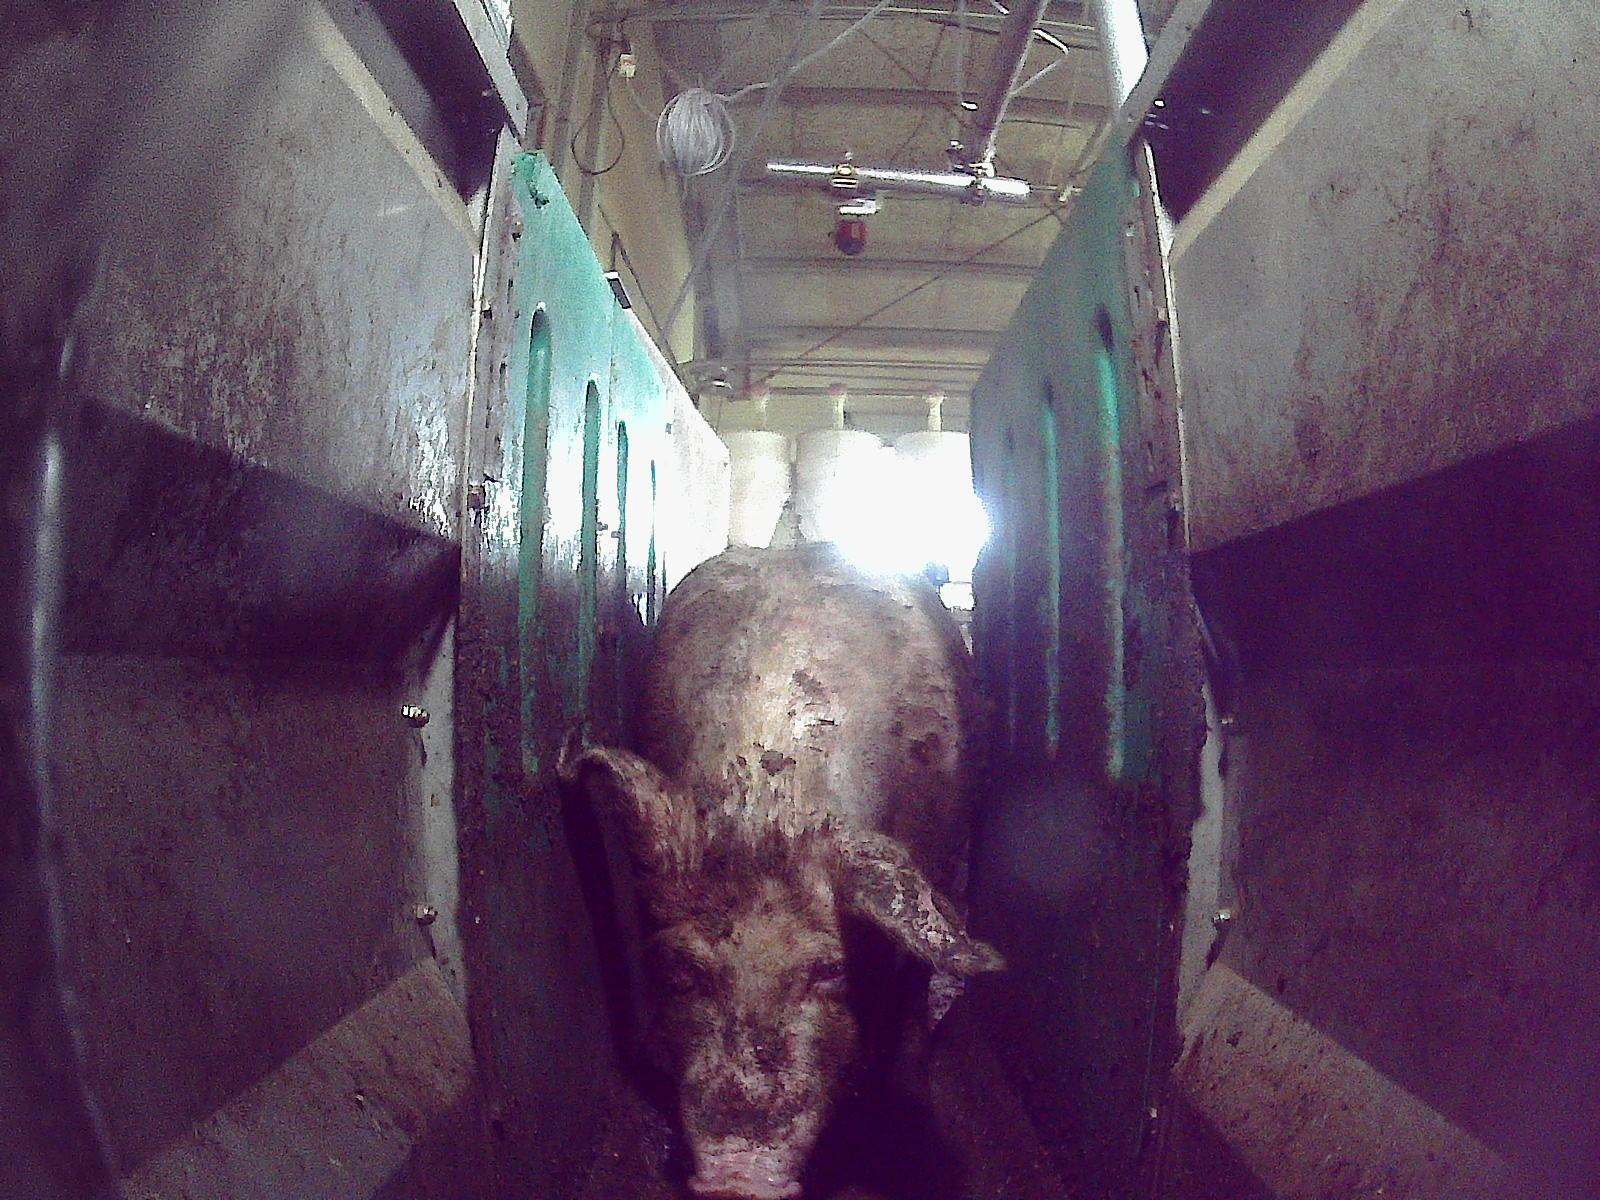Face: (641, 811, 880, 1199)
